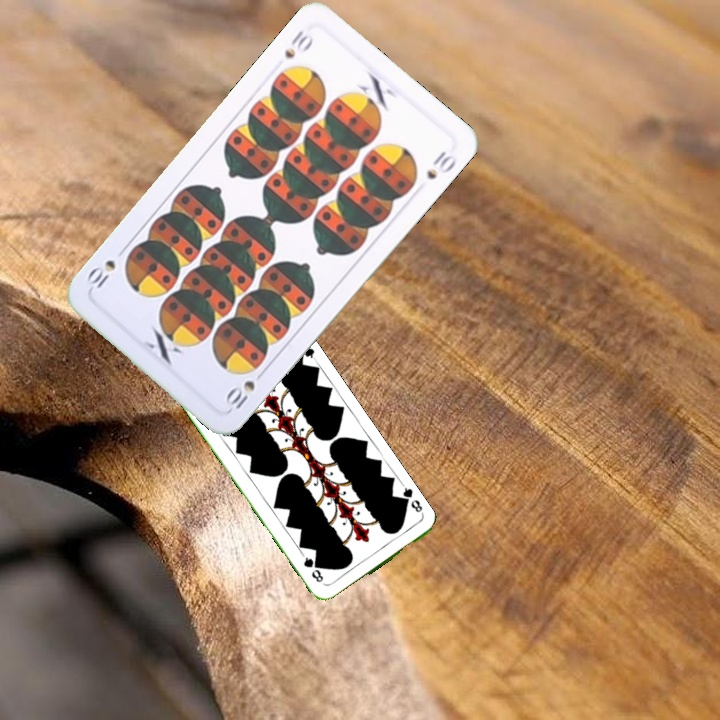G8: (396, 482, 427, 518)
S10: (221, 365, 269, 412), (280, 25, 317, 61)
